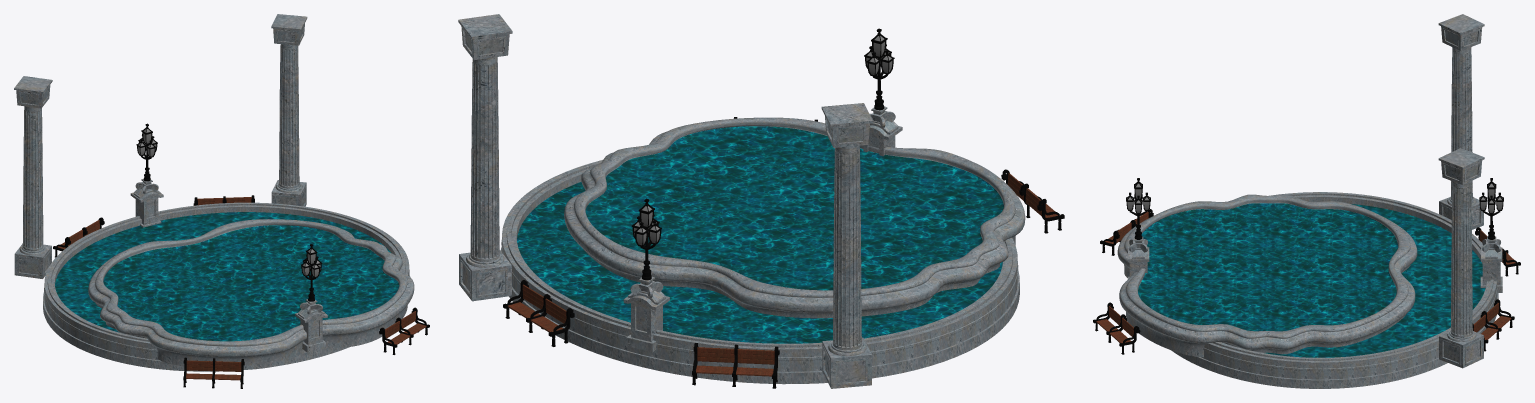
Rendered from fountain.obj.
3 views of the same model, side by side, from view 1: azimuth 30°, elevation 25°; view 2: azimuth 150°, elevation 25°; view 3: azimuth 270°, elevation 25° (orthographic). The views are drawn at different scales.
Visible parts, largest first — view 1: fountain:polySurface38116; view 2: fountain:polySurface38116; view 3: fountain:polySurface38116.
Part boxes in pixels (x1,y1,x2,y2): fountain:polySurface38116: (14,14,429,388); fountain:polySurface38116: (458,14,1064,388); fountain:polySurface38116: (1093,14,1520,388).
Size of the model in its own units: 23.39 by 13.48 by 24.62.
5 materials, 3 textured.
